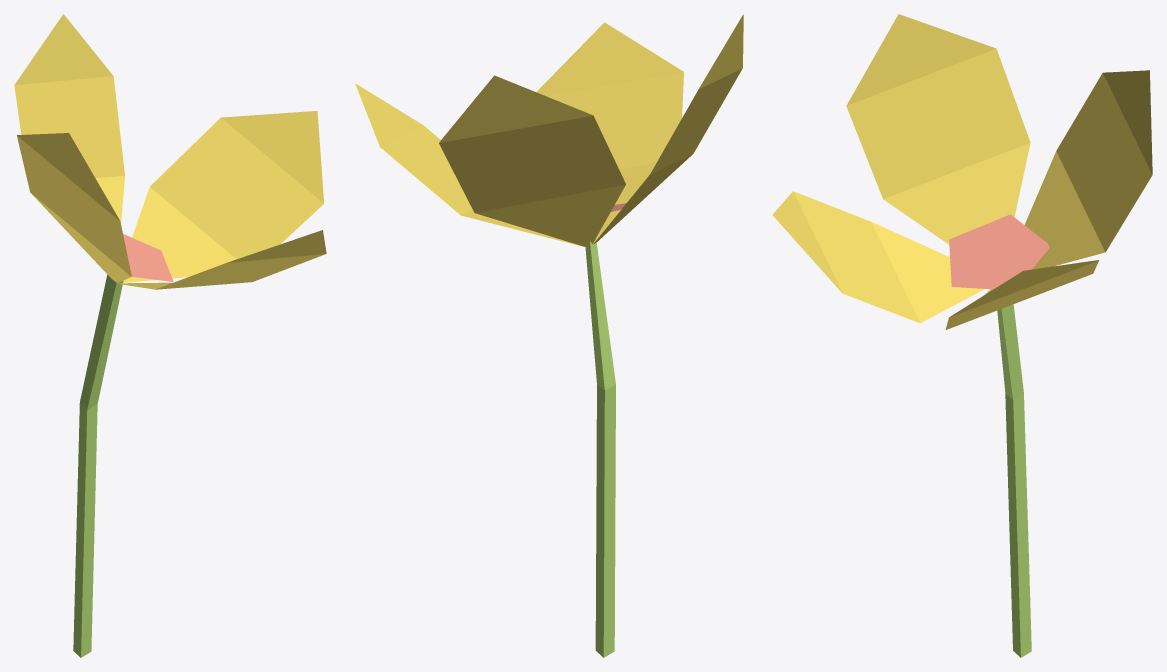
File: Flower_d_TwoS_01.fbx
The picture shows the model from 3 angles, left to right: view 1: azimuth 30°, elevation 25°; view 2: azimuth 150°, elevation 25°; view 3: azimuth 270°, elevation 25°; orthographic projection. The views are drawn at different scales.
Parts seen in each view (by area): view 1: Flower_d_TwoS_01; view 2: Flower_d_TwoS_01; view 3: Flower_d_TwoS_01.
Boxes of the visible parts, x1=… form: Flower_d_TwoS_01: x1=14, y1=14, x2=326, y2=657; Flower_d_TwoS_01: x1=355, y1=14, x2=743, y2=657; Flower_d_TwoS_01: x1=772, y1=14, x2=1152, y2=657.
Bounding box in the file's own units: 0.193 × 0.3432 × 0.1956.
